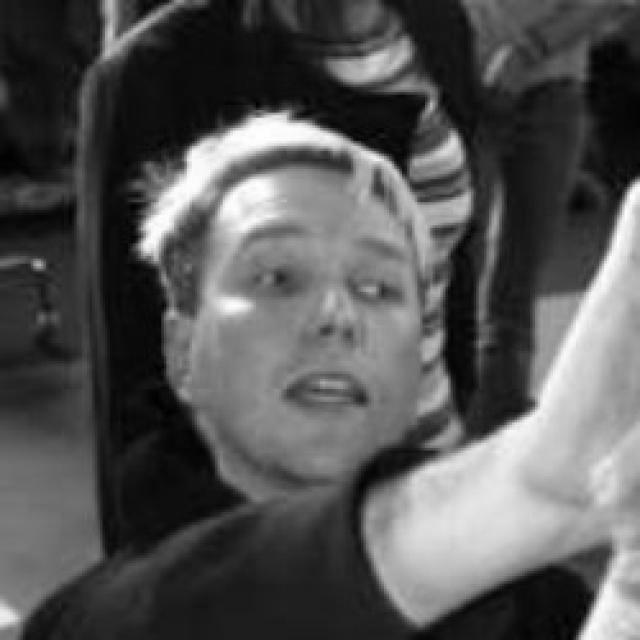real: (190, 174, 424, 482), (239, 244, 408, 323)
